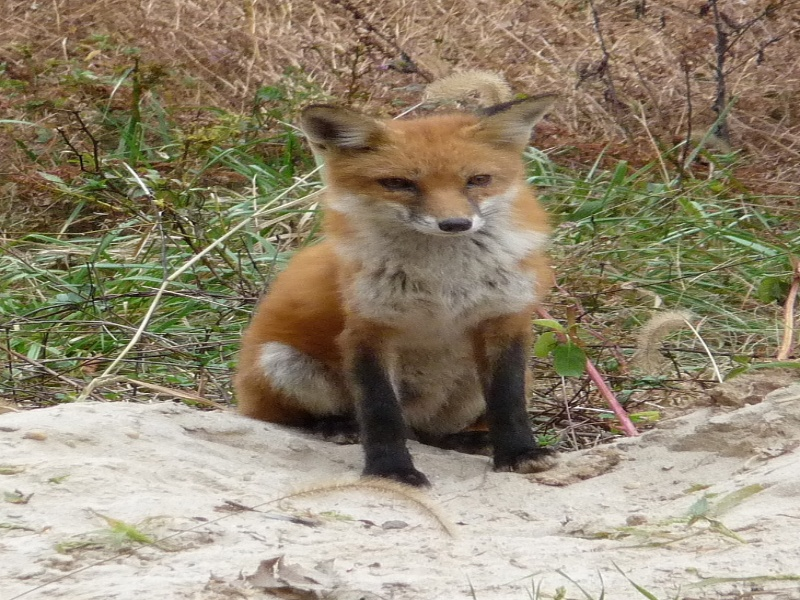fox: (227, 94, 567, 476)
